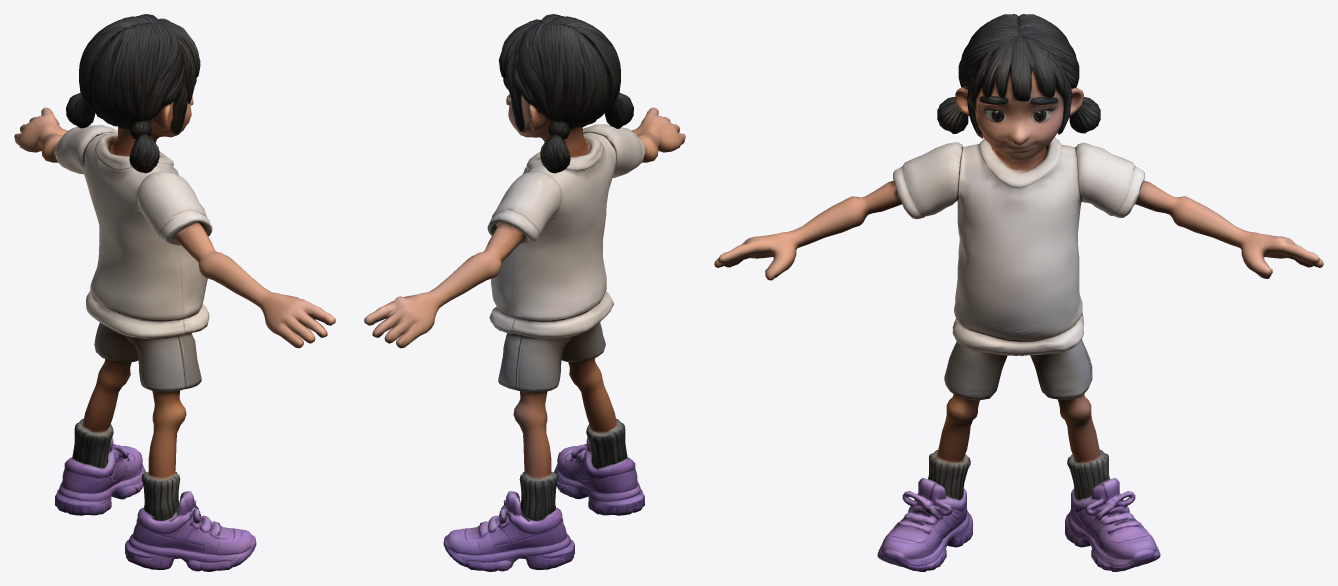
The picture shows the model from 3 angles, left to right: view 1: azimuth 30°, elevation 25°; view 2: azimuth 150°, elevation 25°; view 3: azimuth 270°, elevation 25°; orthographic projection. The views are drawn at different scales.
Visible parts, largest first — view 1: tripo_node_0598cc14; view 2: tripo_node_0598cc14; view 3: tripo_node_0598cc14.
Part boxes in pixels (box(x1,y1,x2,y2)): tripo_node_0598cc14: box(14, 14, 335, 571); tripo_node_0598cc14: box(364, 14, 685, 571); tripo_node_0598cc14: box(714, 14, 1323, 571).
Size of the model in its own units: 22.11 by 95.69 by 100.
1 material, 1 textured.
